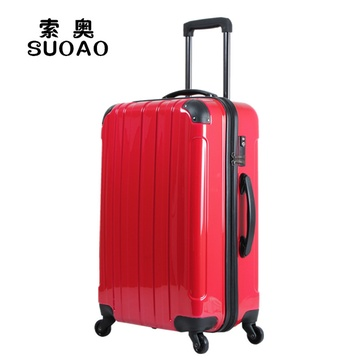luggage: (93, 17, 282, 356)
